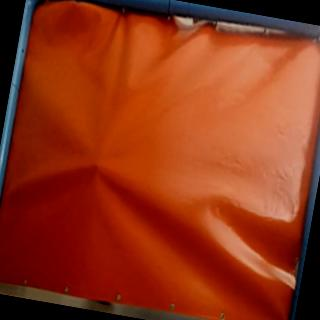Hit-hRxx: (82, 154, 108, 176)
